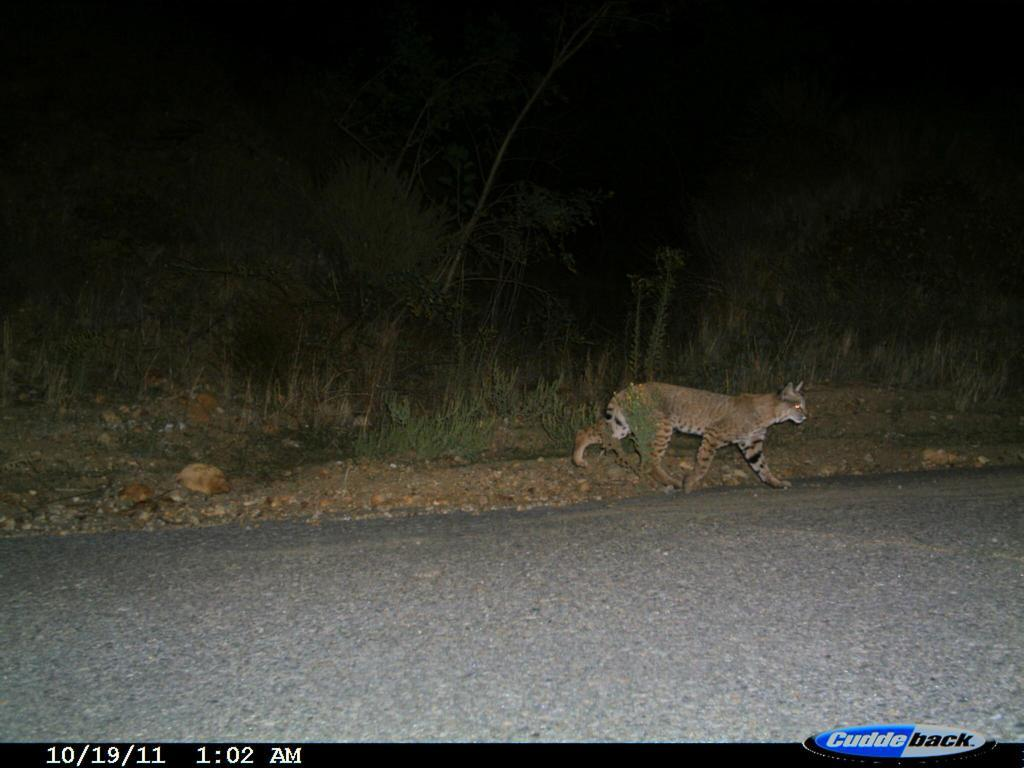bobcat: (570, 359, 813, 509)
